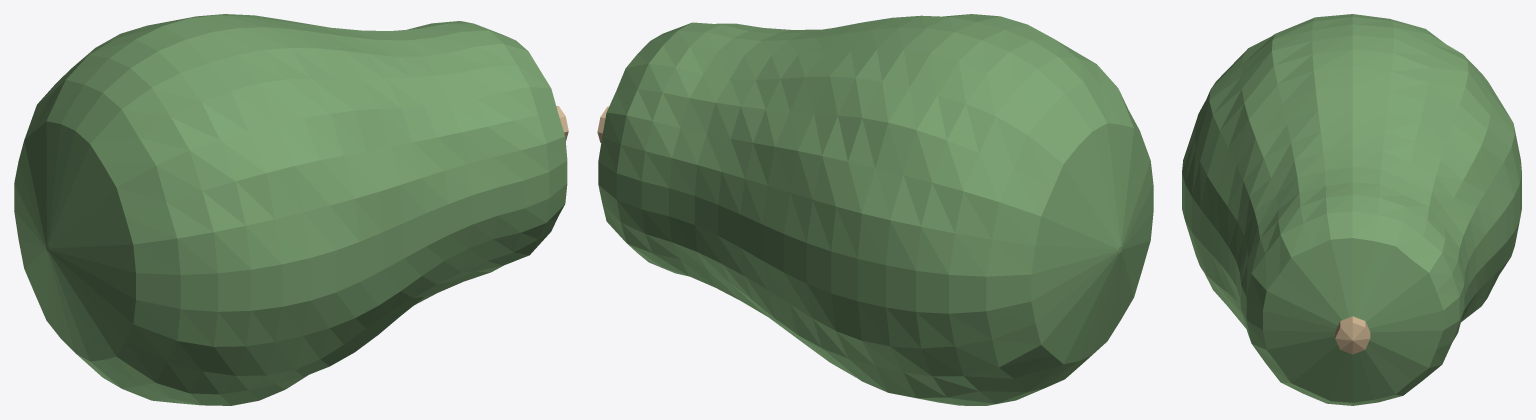
File: fresh-produce-and-groceries-avocado-0f71a530__24338.glb
3 renders of one model, left to right at view 1: azimuth 30°, elevation 25°; view 2: azimuth 150°, elevation 25°; view 3: azimuth 270°, elevation 25°, orthographic. The views are drawn at different scales.
Visible parts, largest first — view 1: avocado; view 2: avocado; view 3: avocado.
Part boxes in pixels (x1,y1,x2,y2): avocado: [14, 14, 568, 405]; avocado: [597, 14, 1153, 405]; avocado: [1182, 14, 1521, 405].
Size of the model in its own units: 0.104 by 0.068 by 0.0675.
